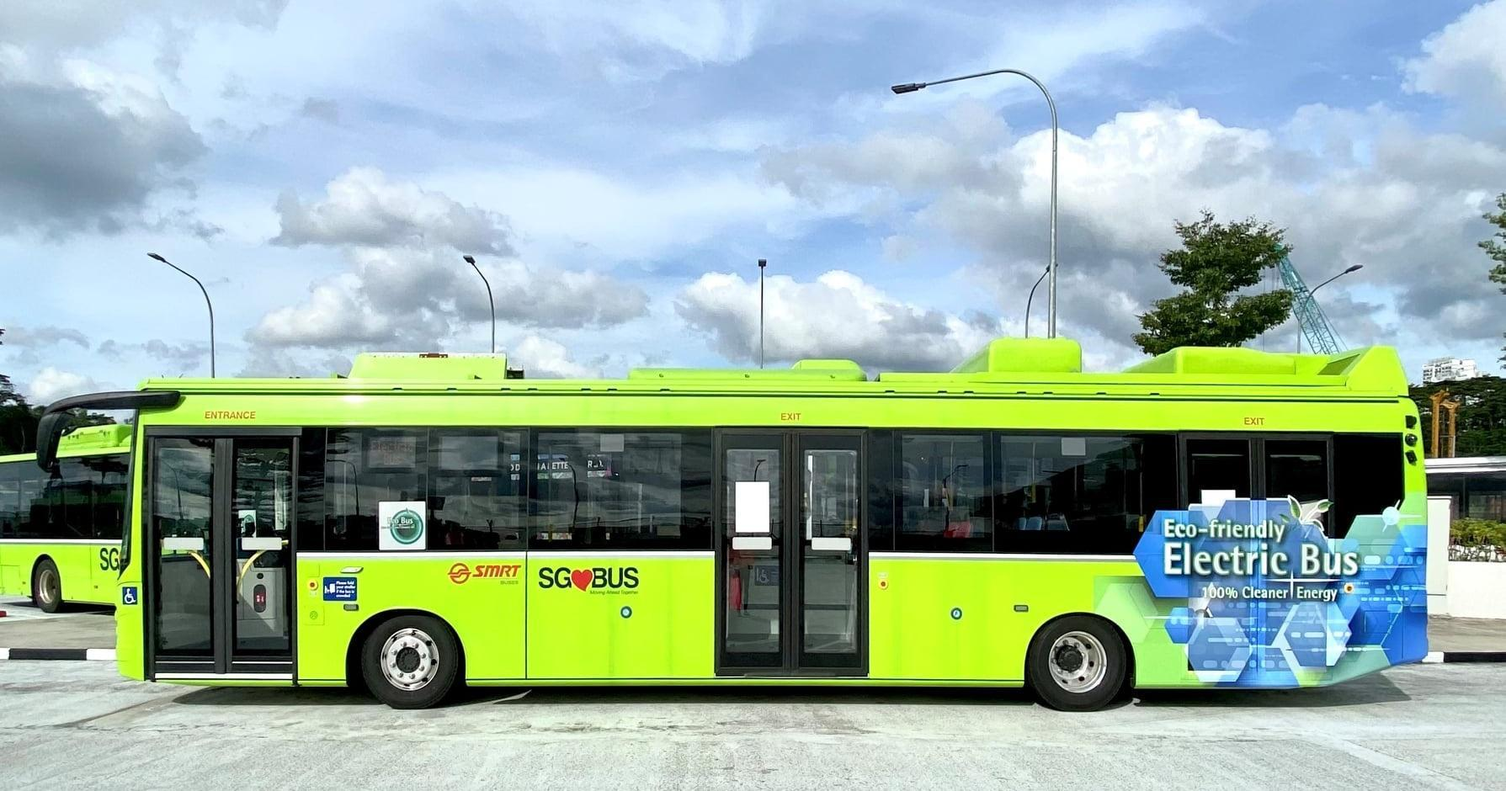Bus: (114, 337, 1443, 715)
